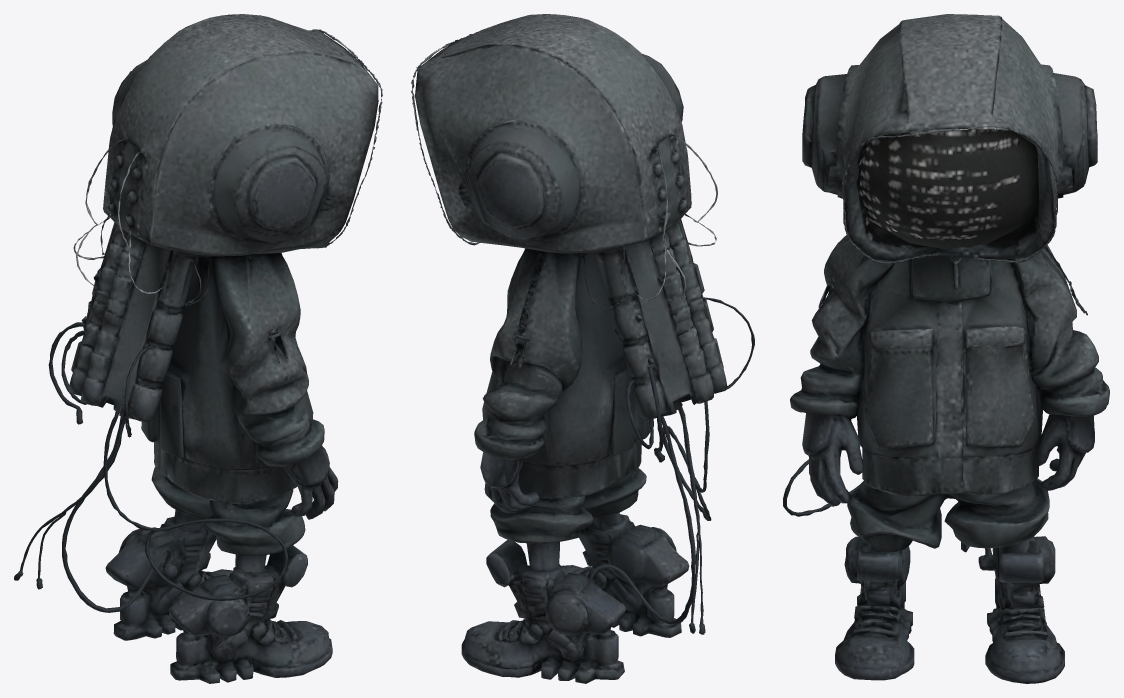
Rendered from bot.glb.
3 views of the same model, side by side, from view 1: azimuth 30°, elevation 25°; view 2: azimuth 150°, elevation 25°; view 3: azimuth 270°, elevation 25° (orthographic). The views are drawn at different scales.
Visible parts, largest first — view 1: tripo_node_7b9d193c-fd93-4fc1-bebd-a499e364d0bc; view 2: tripo_node_7b9d193c-fd93-4fc1-bebd-a499e364d0bc; view 3: tripo_node_7b9d193c-fd93-4fc1-bebd-a499e364d0bc.
Boxes of the visible parts, box(x1,y1,x2,y2) form: tripo_node_7b9d193c-fd93-4fc1-bebd-a499e364d0bc: box(14, 14, 382, 683); tripo_node_7b9d193c-fd93-4fc1-bebd-a499e364d0bc: box(411, 14, 754, 683); tripo_node_7b9d193c-fd93-4fc1-bebd-a499e364d0bc: box(783, 14, 1109, 683).
Size of the model in its own units: 0.5137 by 0.998 by 0.4668.
1 material, 1 textured.
